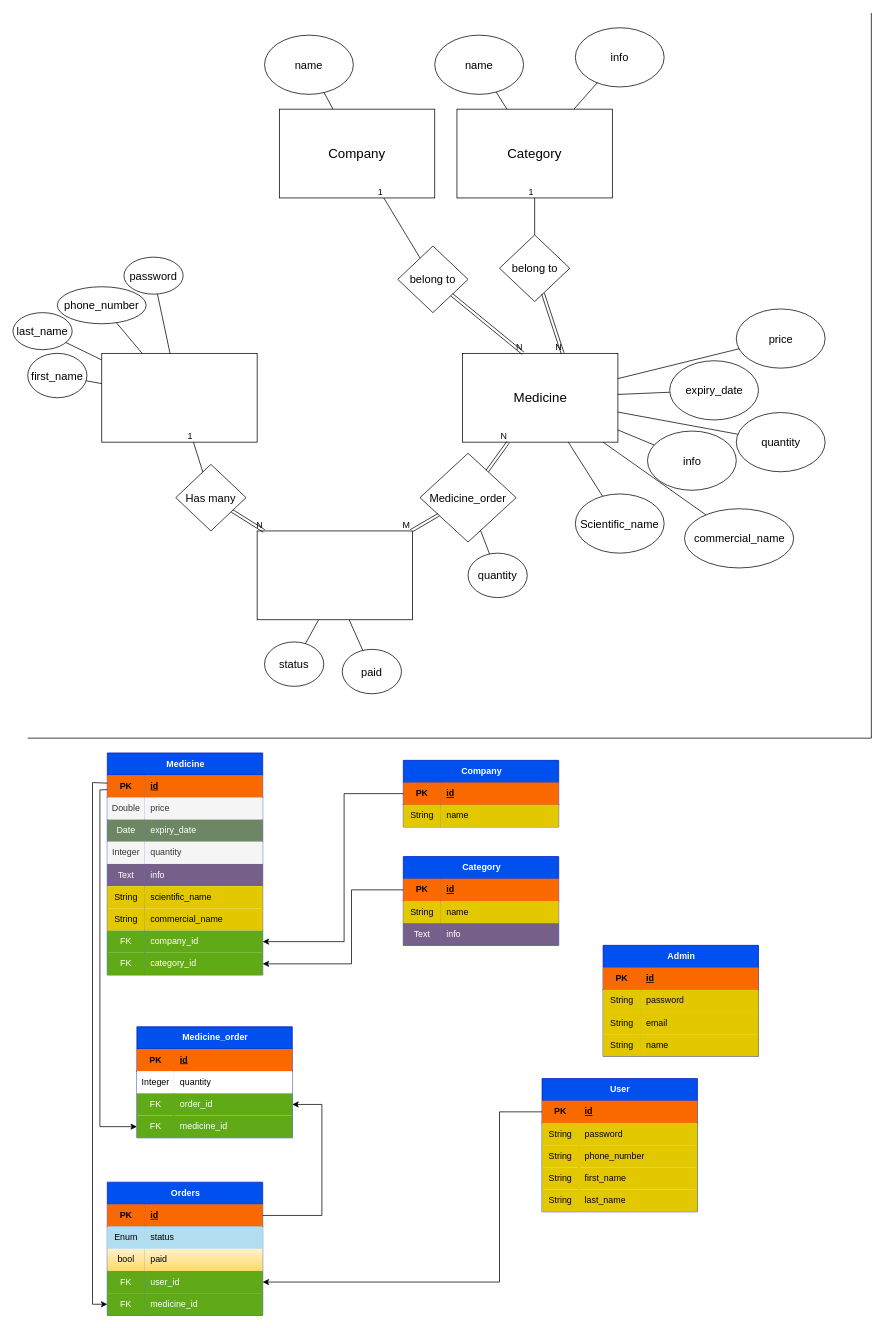
The diagram is 885 pixels wide and 1328 high, and some of its shapes have lost their labels. The shapes that lost their labels are listed below. From the top down, each one's centre as x and y in pixels, then its label:
pixel 179 397: Users
pixel 334 575: Order
